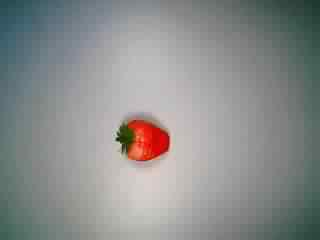strawberry: (108, 105, 176, 169)
